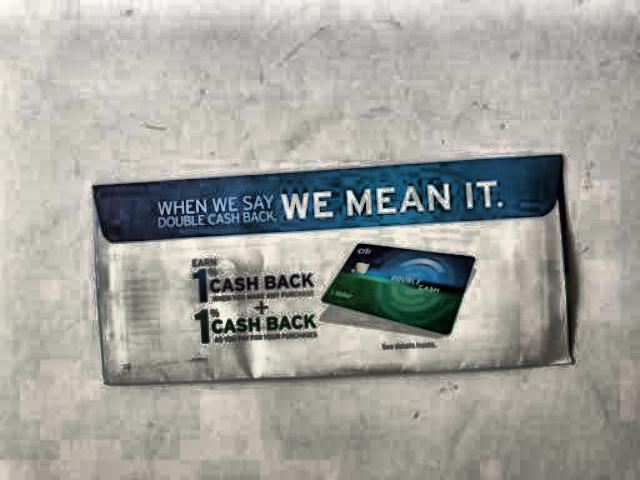Paper: (67, 139, 578, 387)
